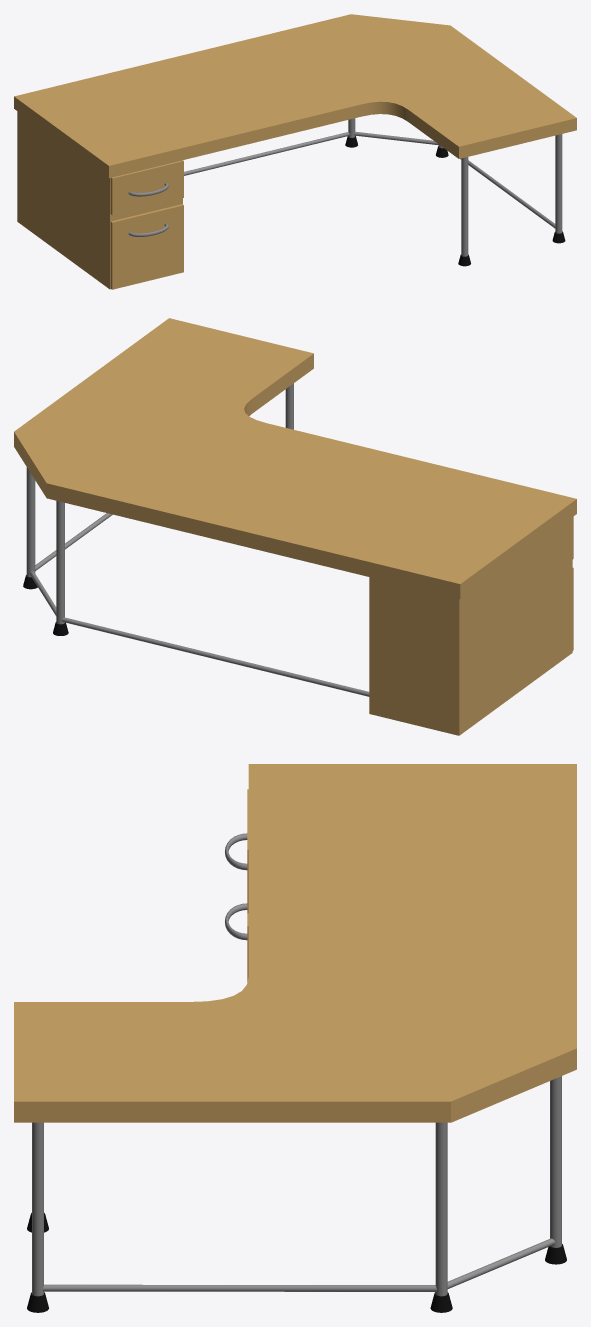
File: Desk.FBX
3 renders of one model, top to bottom at view 1: azimuth 30°, elevation 25°; view 2: azimuth 150°, elevation 25°; view 3: azimuth 270°, elevation 25°, orthographic. The views are drawn at different scales.
Parts seen in each view (by area): view 1: Desk, Drawer_Lower, Drawer_Upper; view 2: Desk; view 3: Desk.
Part boxes in pixels (x1,y1,x2,y2): Desk: [14, 14, 576, 289]; Drawer_Lower: [110, 204, 183, 289]; Drawer_Upper: [110, 160, 183, 215]; Desk: [14, 318, 576, 735]; Desk: [14, 764, 576, 1312].
Size of the model in its own units: 87.96 by 26.27 by 62.01.
